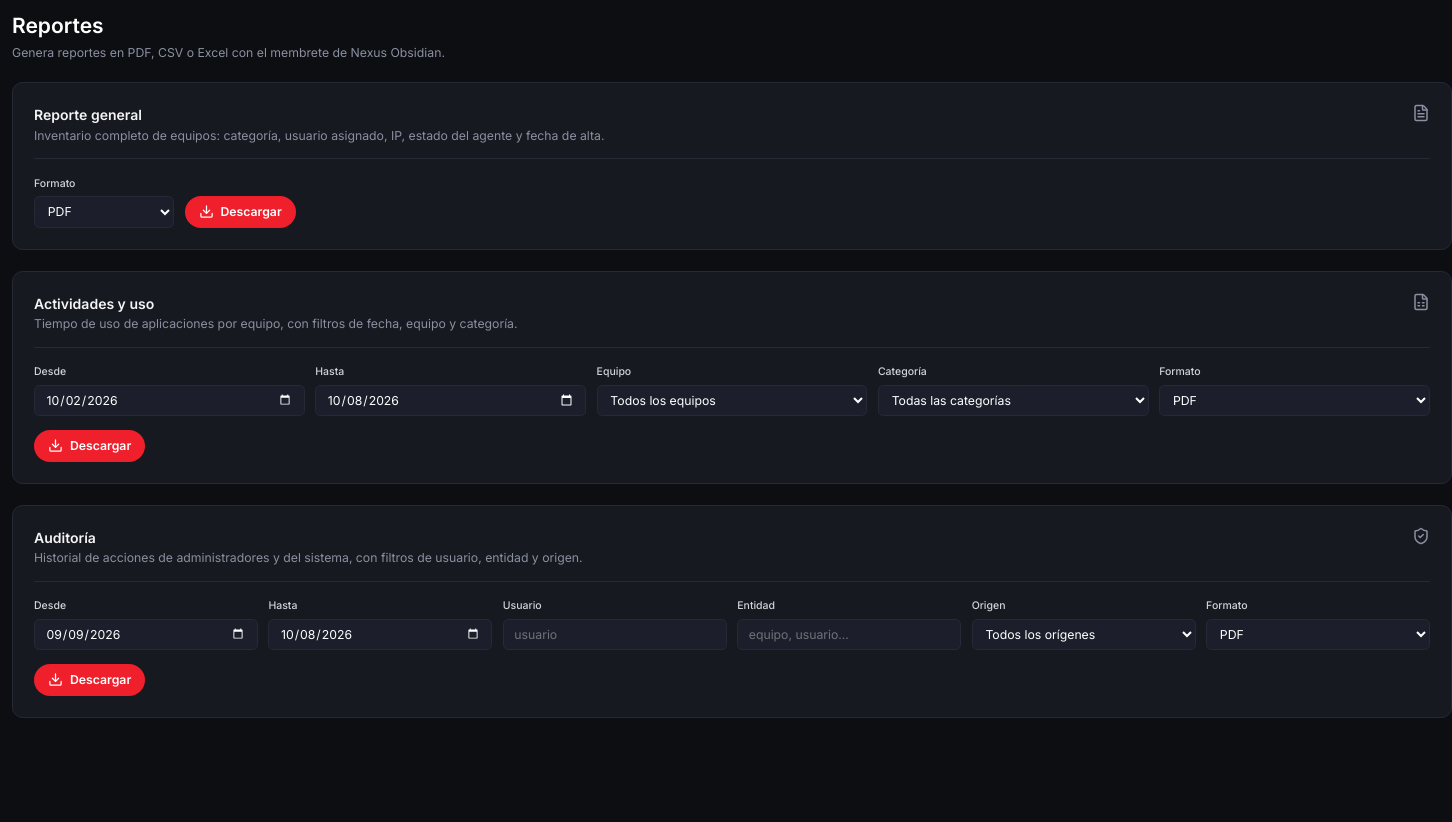
Test: no descarga el reporte de uso cuando el rango de fechas es inválido
Type "2026-10-20" into the 1st date field at [169, 400], box x1=34 y1=384 x2=305 y2=416
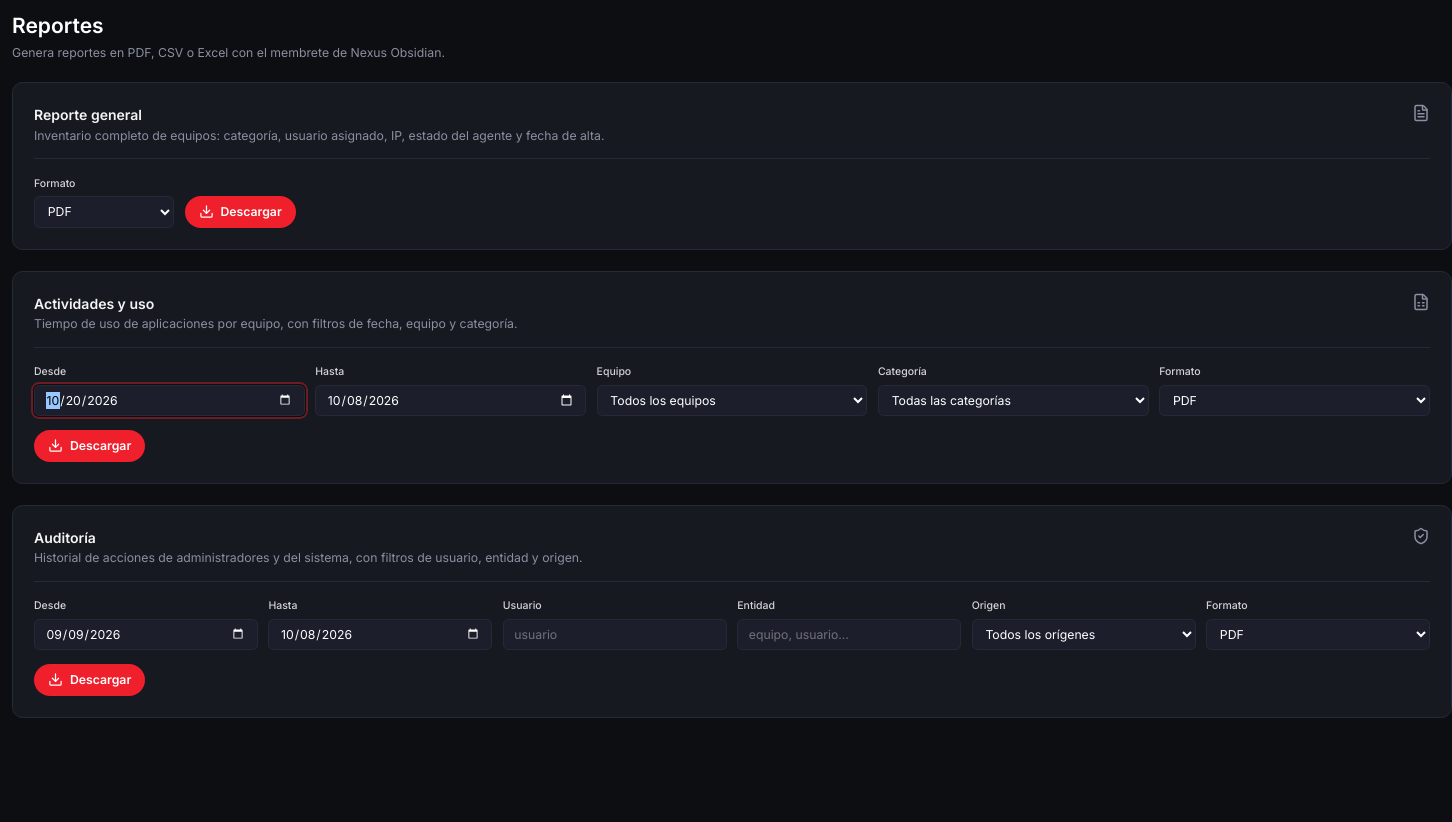
Type "2026-10-01" into the 2nd date field at [451, 400], box x1=315 y1=384 x2=586 y2=416
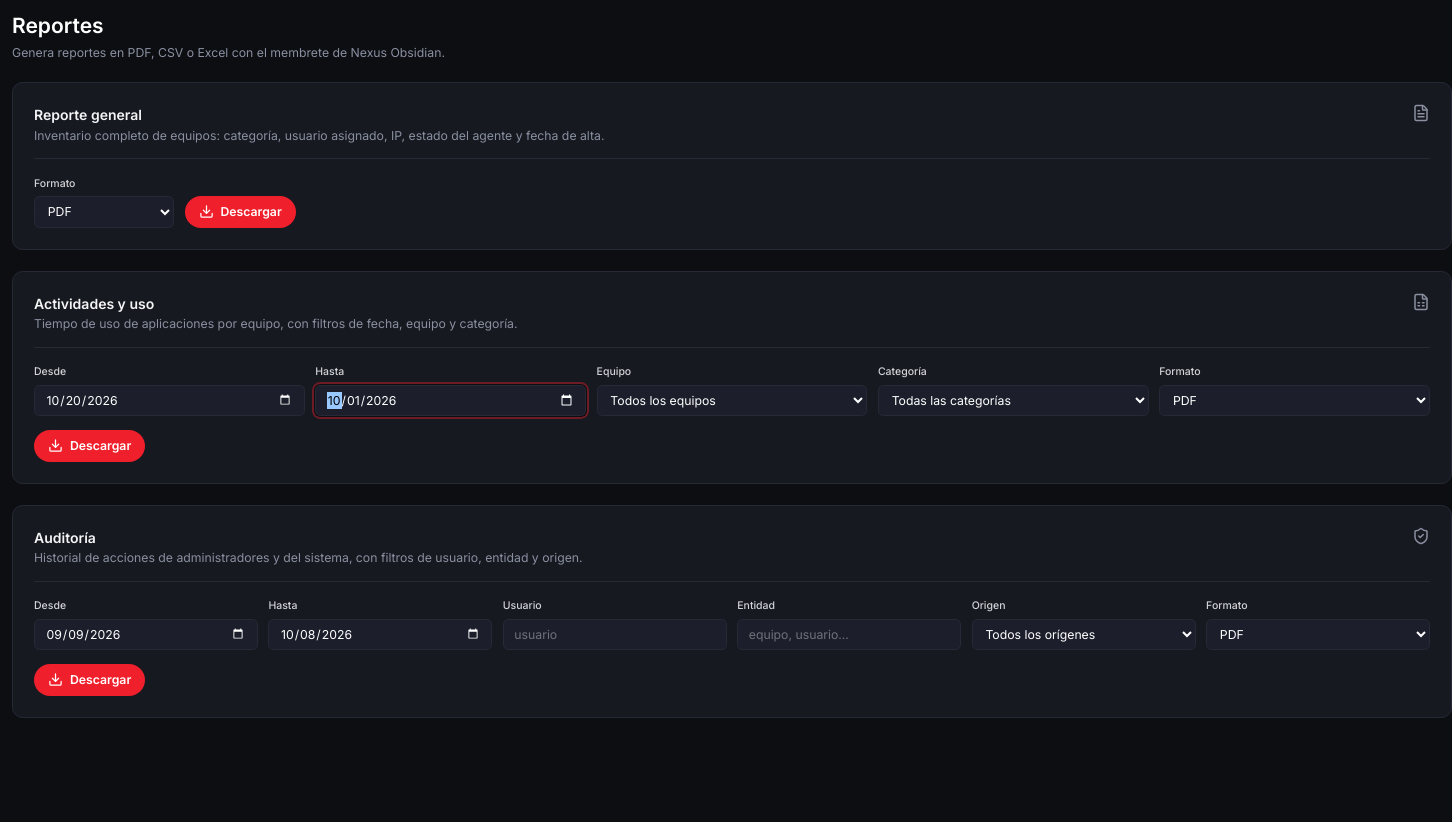
Click the button "Descargar" below "Actividades y uso" at [90, 446], box x1=34 y1=430 x2=145 y2=462
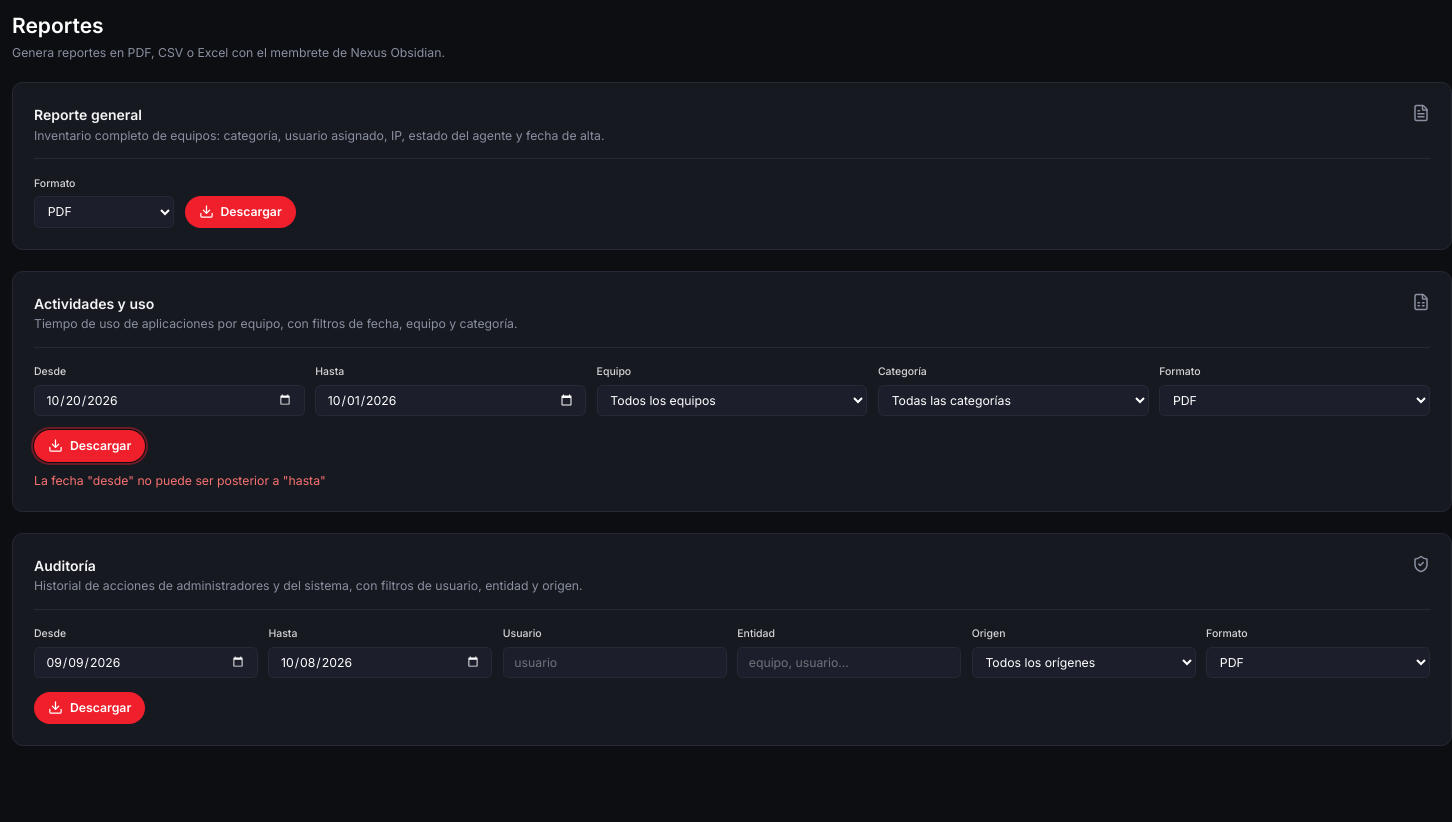
Expected: the text "La fecha \"desde\" no puede ser posterior a \"hasta\"" is shown, x1=34 y1=473 x2=326 y2=488
